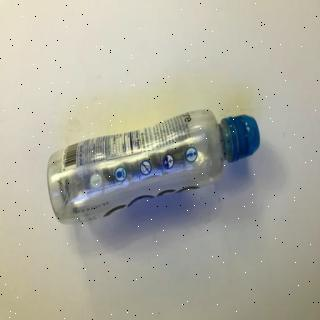Plastic-bottle: (47, 108, 262, 229)
